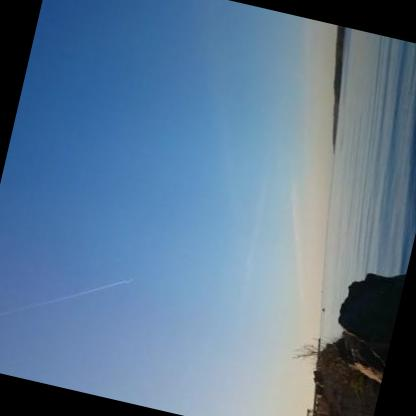plane: (124, 270, 141, 285)
